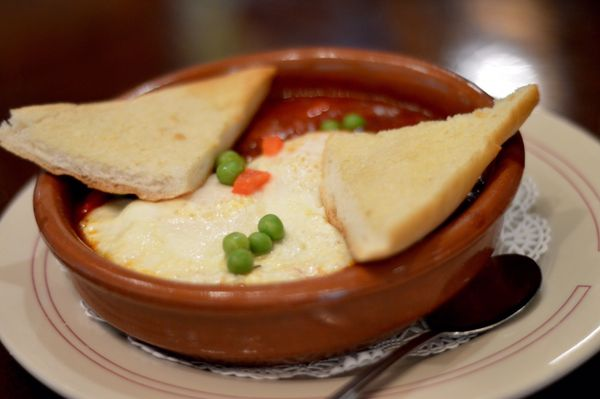pizza: (231, 169, 272, 196)
sushi: (13, 50, 540, 368)
